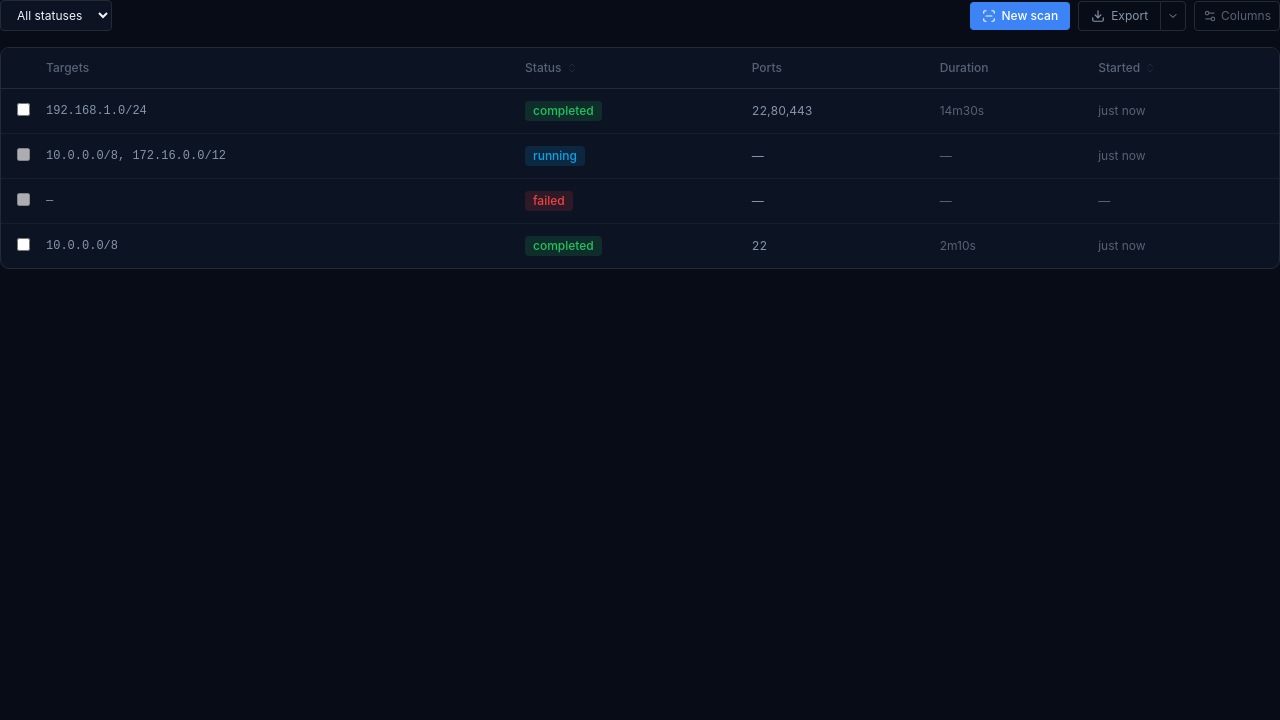
Test: ScansPage › opens the detail panel when a scan row is clicked
This screenshot has width=1280, height=720.
Note: Click scan-1 row (index 1)
Click the row "192.168.1.0/24 completed 22,80,443 14m30s just now": (640, 111) [1,88,1279,134]
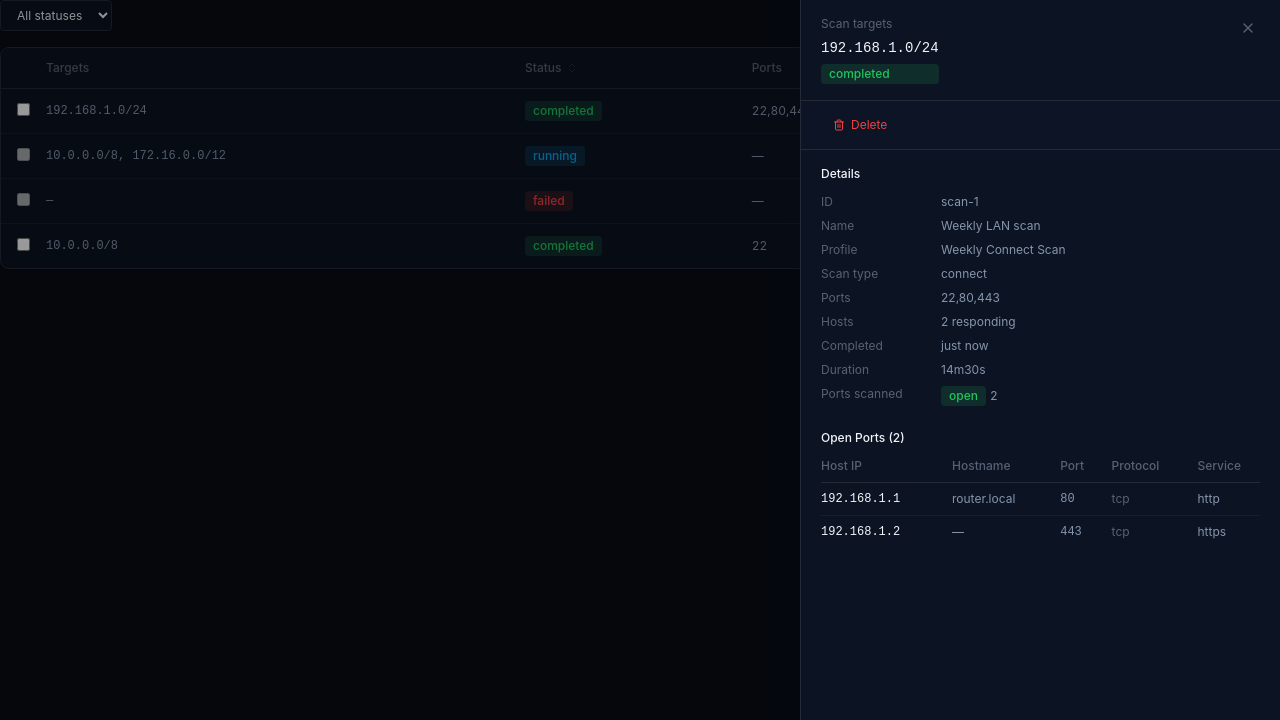
Expected: the dialog named "scan details" is shown, [800,0,1279,719]
